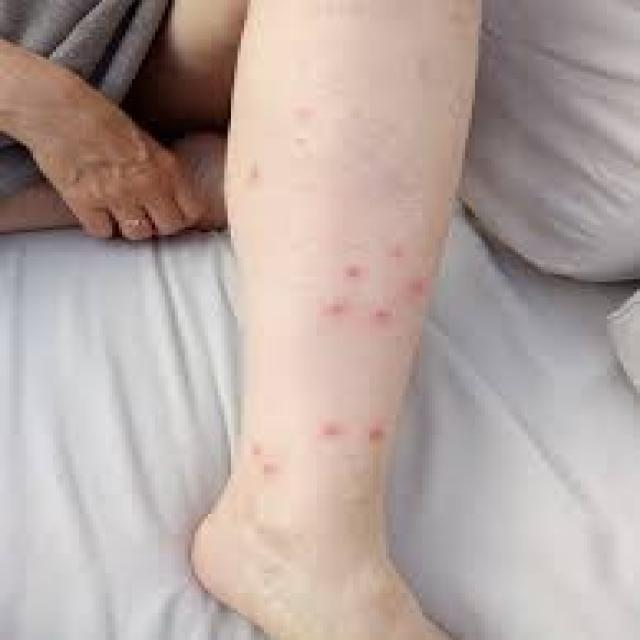kan emici bocekler: (311, 302, 359, 324), (403, 275, 435, 305), (336, 261, 373, 285), (317, 423, 349, 444), (257, 461, 289, 477), (370, 428, 392, 450), (372, 307, 393, 326)
